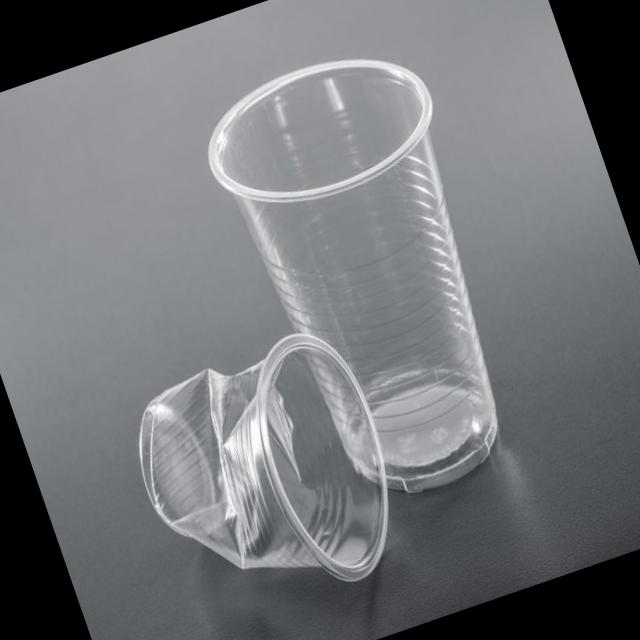GelasPlastik: (188, 28, 553, 523), (112, 314, 424, 638)
